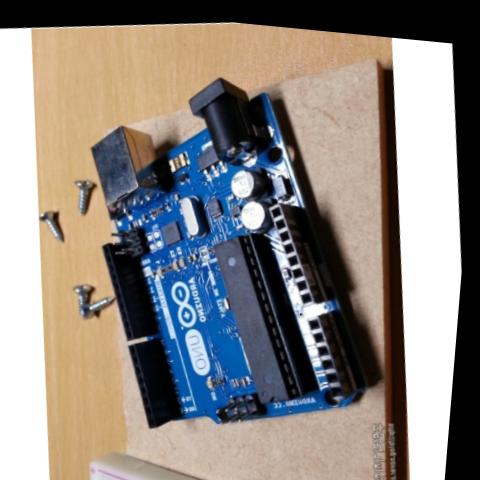Arduino-Uno: (64, 39, 401, 452)
